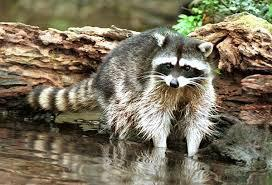raccoon: (17, 16, 223, 167)
